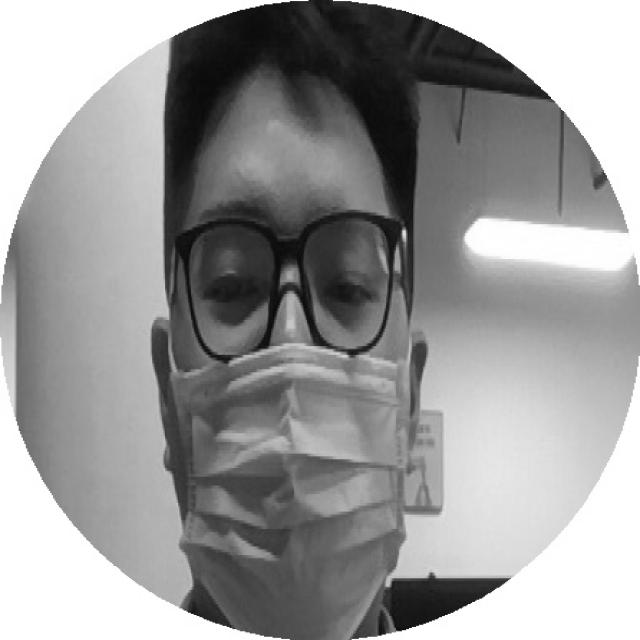fake: (165, 342, 407, 640)
real: (184, 194, 397, 315)
